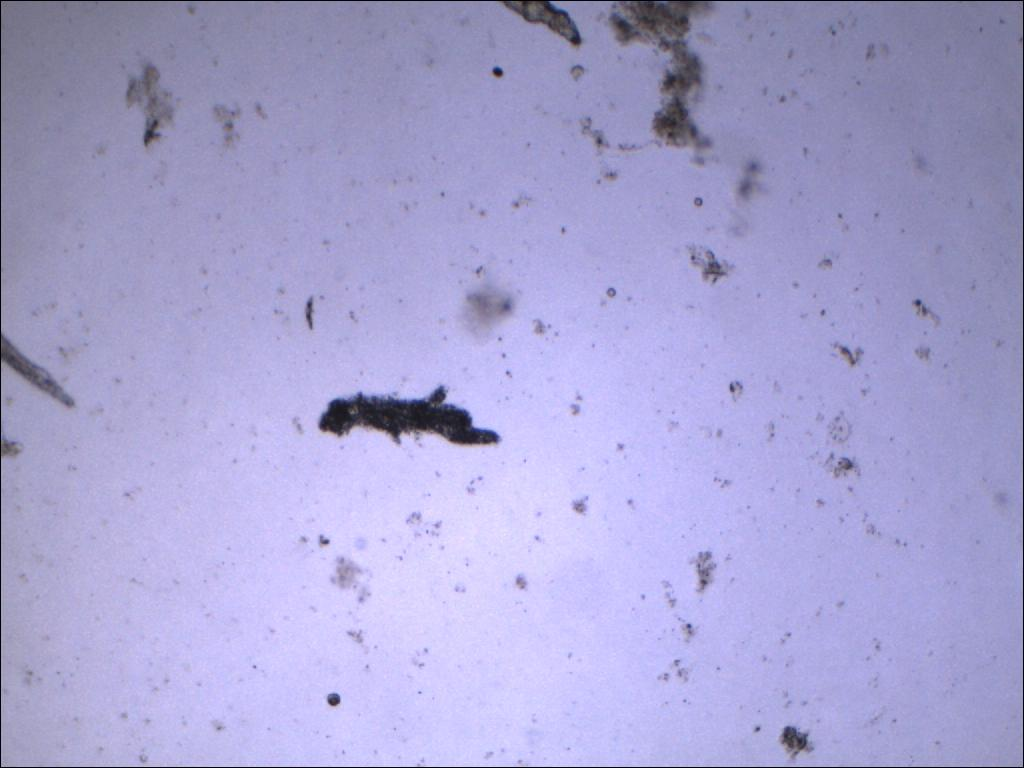amoeba: (311, 377, 510, 452)
